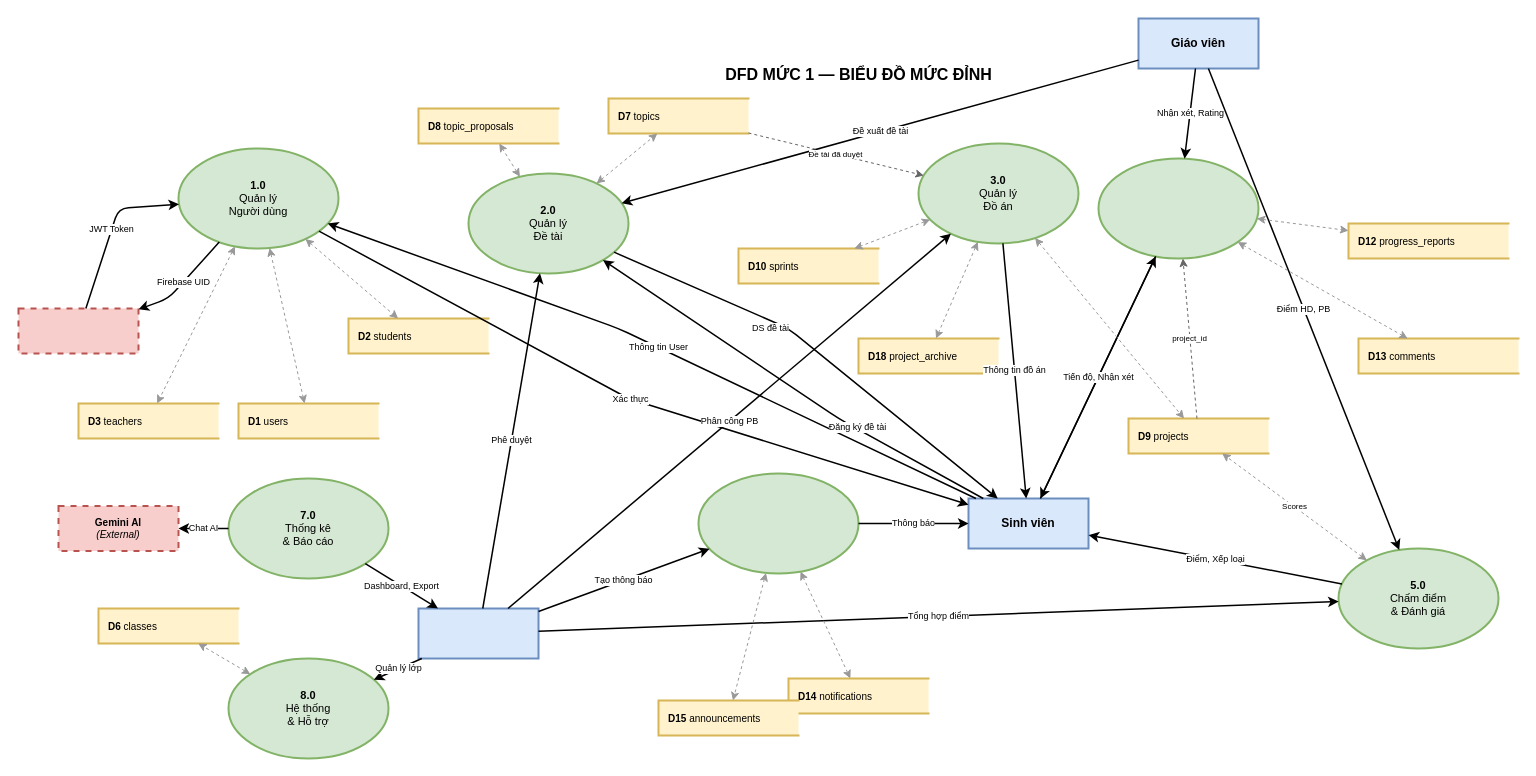
The diagram is 1536 pixels wide and 776 high, and some of its shapes have lost their labels. Here are the shapes that lost their labels. From the top down, the centre of each, then its label:
At point 1178,208: "4.0 Theo dõi Tiến độ".
At point 78,330: "Firebase Auth (External)".
At point 778,523: "6.0 Thông báo & Truyền thông".
At point 478,633: "Admin".
